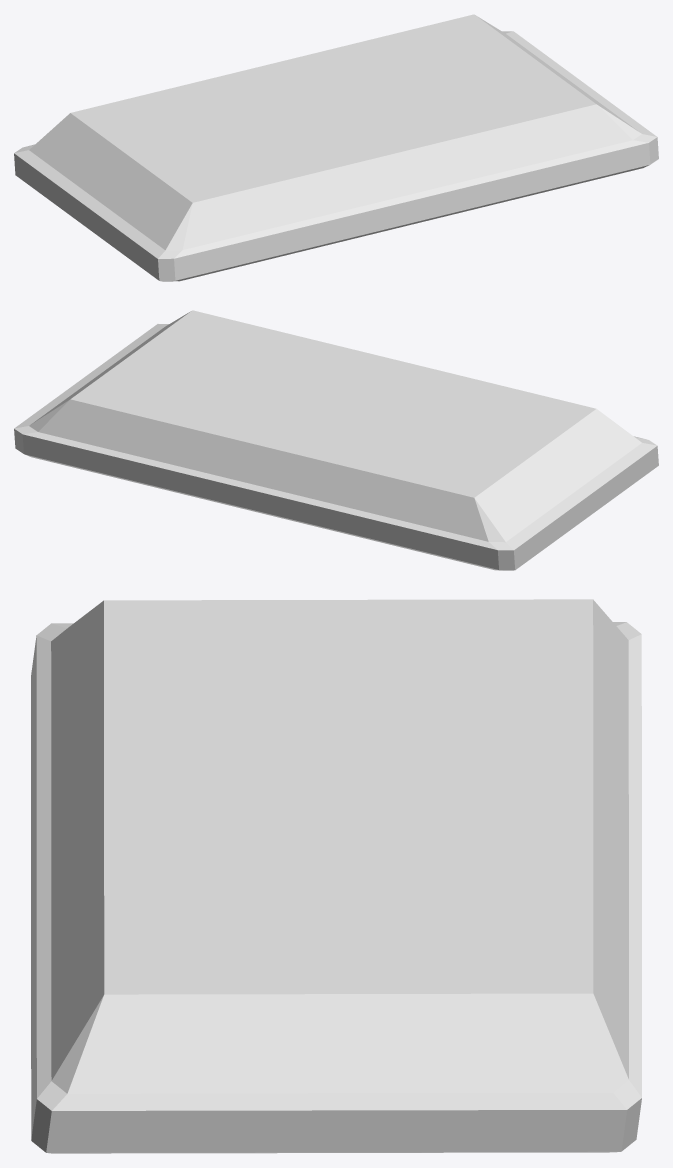
File: Cooler_01_2.fbx
3 views of the same model, one above another, from view 1: azimuth 30°, elevation 25°; view 2: azimuth 150°, elevation 25°; view 3: azimuth 270°, elevation 25° (orthographic). The views are drawn at different scales.
Visible parts, largest first — view 1: Cooler_01_2; view 2: Cooler_01_2; view 3: Cooler_01_2.
Part boxes in pixels (box(x1,y1,x2,y2)): Cooler_01_2: box(14, 14, 658, 281); Cooler_01_2: box(14, 310, 658, 570); Cooler_01_2: box(31, 599, 641, 1153).
Bounding box in the file's own units: 63.57 × 7.21 × 33.67.
